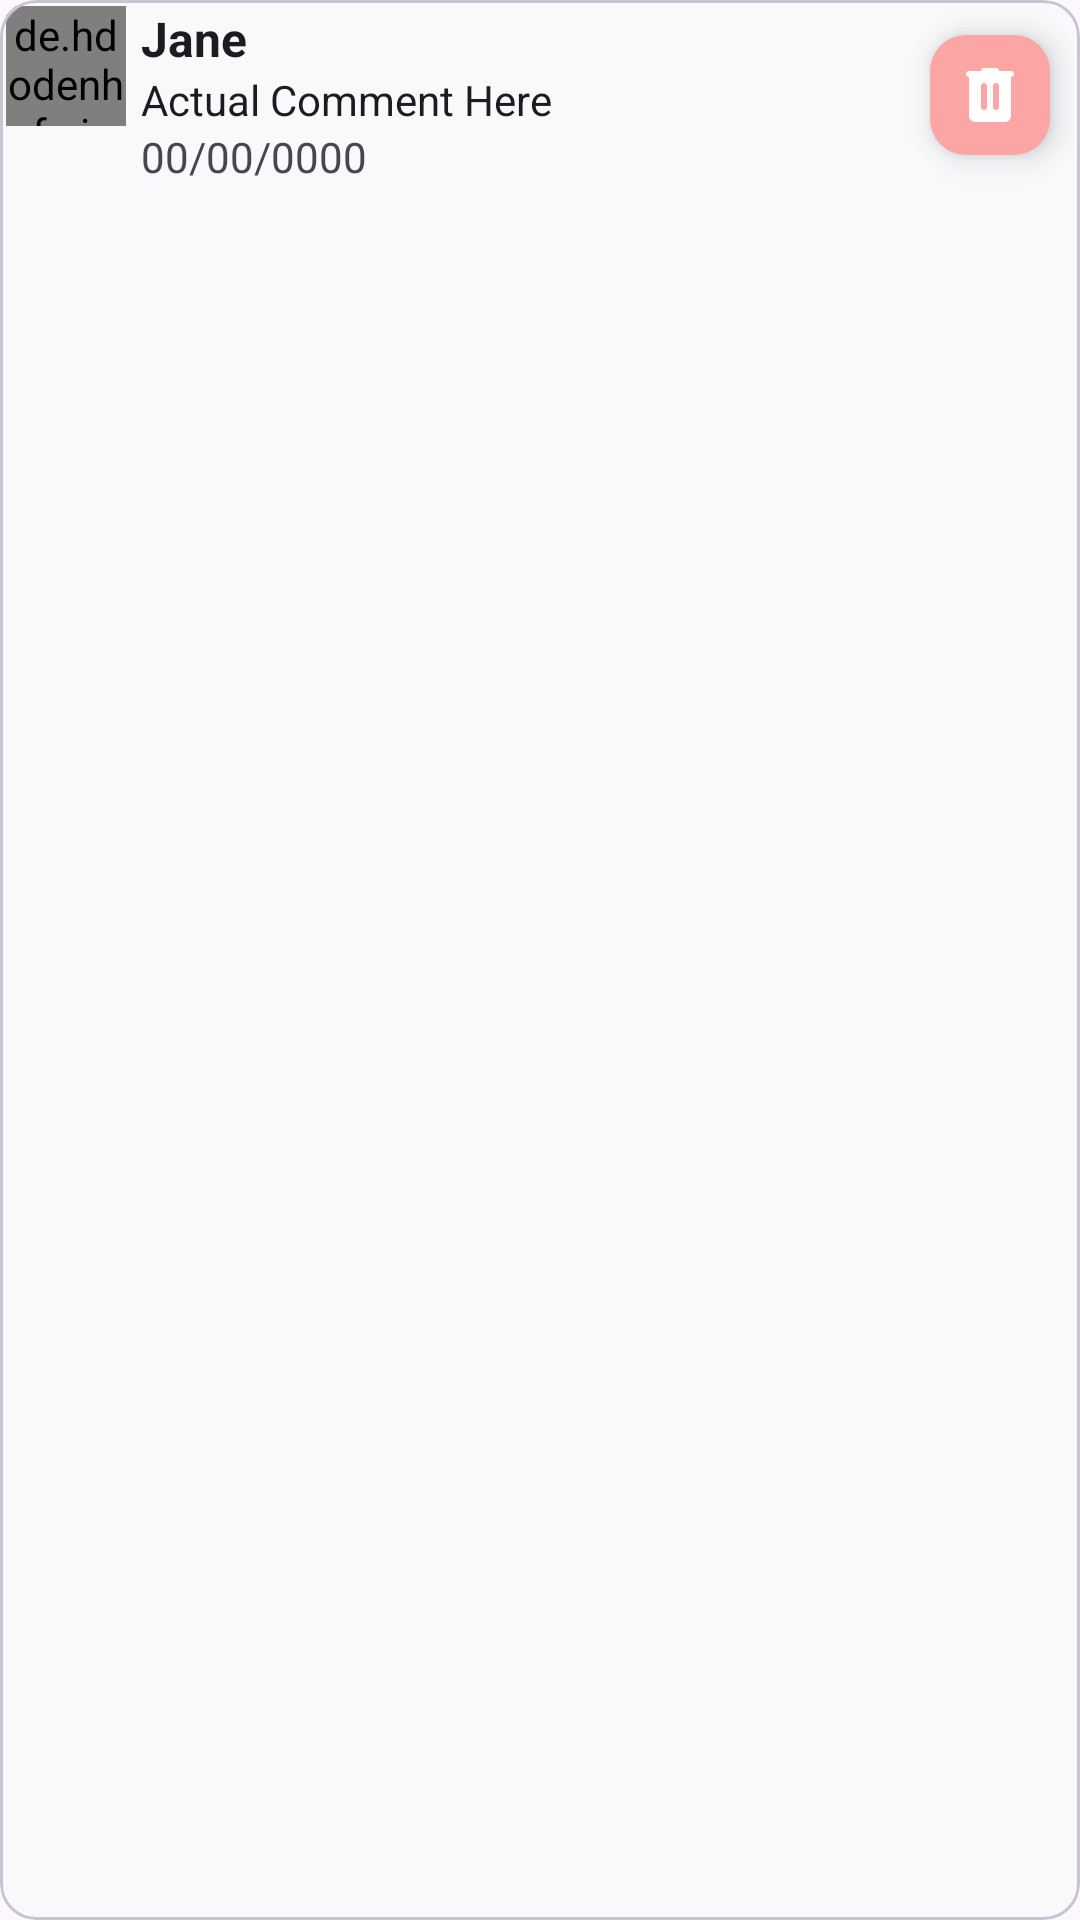

Where icons sit on this 1080 x 1920 app screen, as (x1, y1, x2, y2):
symbols delete rounded: (930, 35, 1050, 155)
